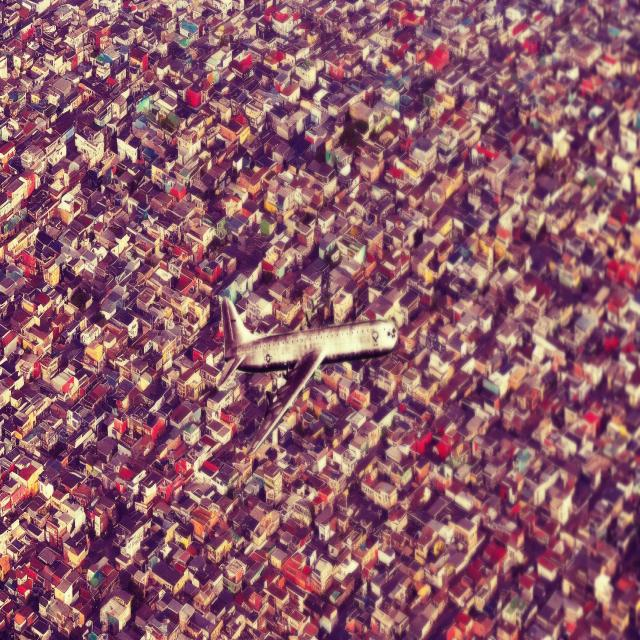airplane: (215, 294, 399, 460)
